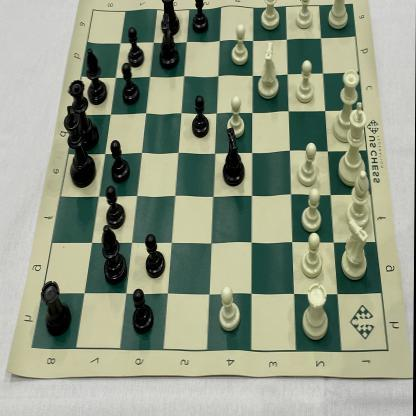black-bishop: (102, 224, 127, 285), (88, 47, 106, 106)
black-king: (63, 105, 96, 187)
black-knight: (221, 126, 248, 188), (159, 11, 179, 70)
black-pawn: (133, 288, 156, 335), (144, 234, 167, 280), (104, 187, 128, 230), (110, 139, 132, 185), (121, 64, 142, 106), (191, 94, 210, 139), (127, 26, 145, 70), (191, 0, 209, 34)
black-queen: (67, 78, 95, 143)
black-rook: (40, 280, 72, 338), (159, 0, 181, 37)
white-bishop: (346, 168, 373, 229), (258, 0, 281, 30)
white-king: (339, 102, 370, 187)
white-knight: (341, 217, 371, 280), (256, 40, 282, 101)
white-pawn: (219, 284, 243, 332), (301, 231, 323, 279), (296, 143, 320, 186), (302, 187, 323, 233), (296, 60, 315, 103), (227, 94, 245, 135), (232, 25, 249, 67), (294, 0, 314, 31)
white-queen: (332, 67, 362, 143)
white-rook: (302, 281, 330, 340), (326, 0, 351, 31)
